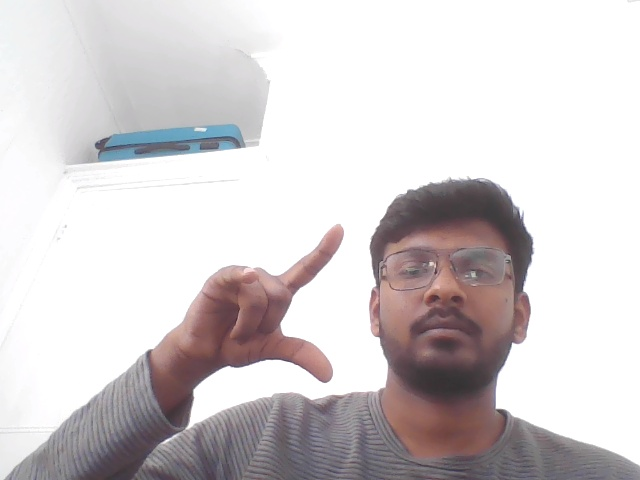ILoveYou: (151, 203, 355, 438)
